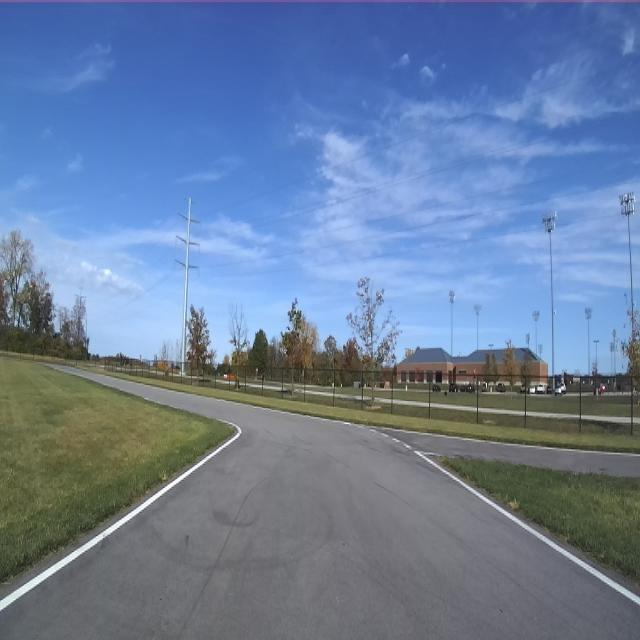white-line: (0, 423, 241, 612), (414, 450, 640, 605), (403, 442, 411, 449), (392, 437, 400, 443), (381, 433, 388, 436), (370, 429, 376, 432)
